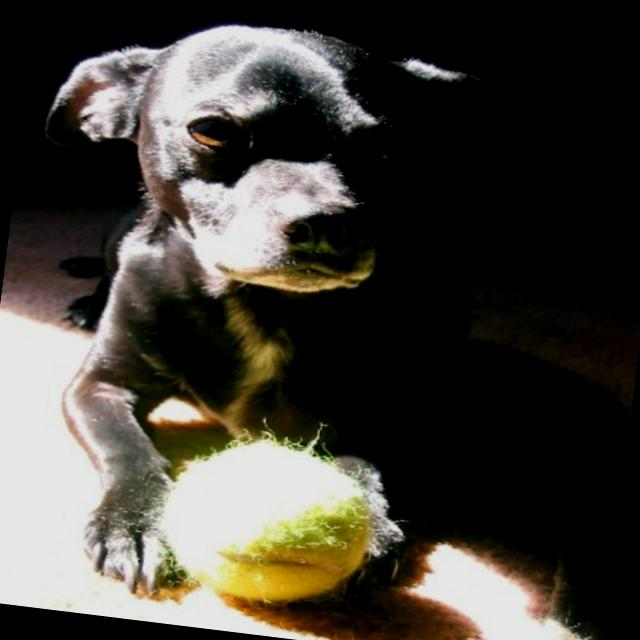Tennis Ball: (152, 406, 396, 620)
